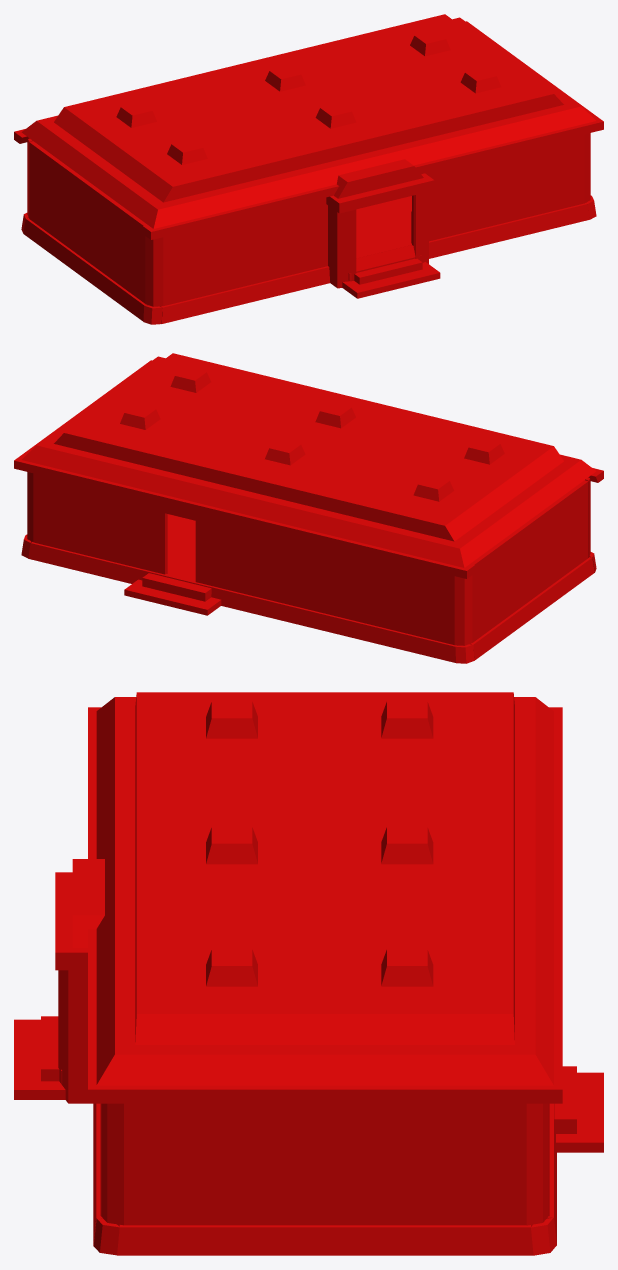
File: SM_Bld_Diner_01_Collision.fbx
3 renders of one model, top to bottom at view 1: azimuth 30°, elevation 25°; view 2: azimuth 150°, elevation 25°; view 3: azimuth 270°, elevation 25°, orthographic. The views are drawn at different scales.
Visible parts, largest first — view 1: SM_Bld_Diner_01_Collision; view 2: SM_Bld_Diner_01_Collision; view 3: SM_Bld_Diner_01_Collision.
Part boxes in pixels (x1=…): SM_Bld_Diner_01_Collision: x1=14, y1=14, x2=603, y2=324; SM_Bld_Diner_01_Collision: x1=14, y1=353, x2=603, y2=663; SM_Bld_Diner_01_Collision: x1=14, y1=692, x2=603, y2=1255.
Size of the model in its own units: 1603 by 449 by 1045.
